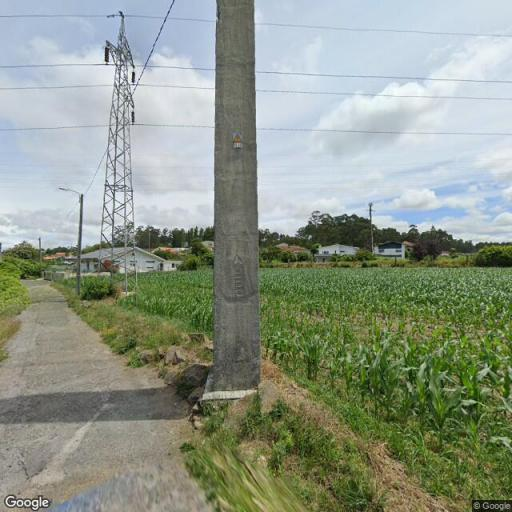ss_4: (98, 12, 143, 298)
